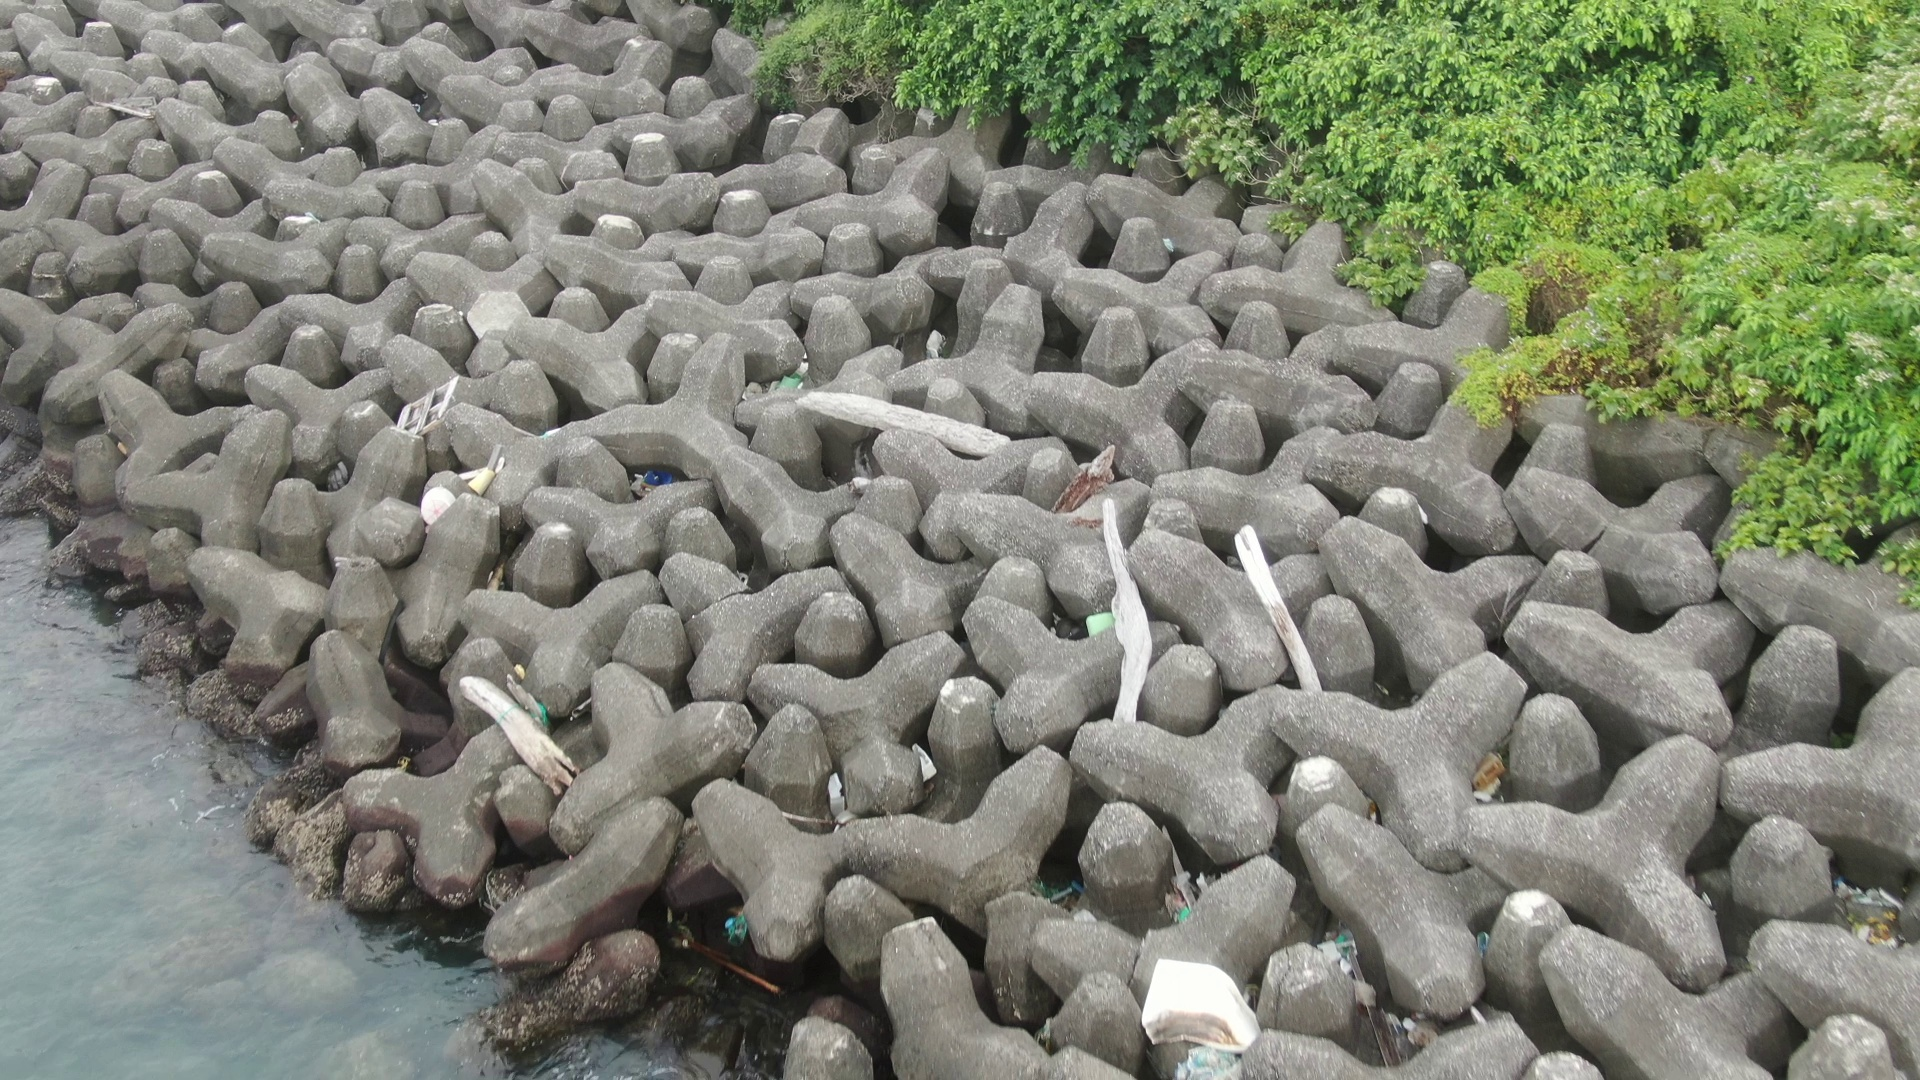garbage: (1316, 920, 1447, 1063), (1143, 947, 1273, 1080), (393, 442, 524, 529), (1820, 866, 1920, 961), (1150, 818, 1221, 924), (998, 870, 1112, 924), (742, 347, 836, 411), (382, 375, 462, 438), (1468, 736, 1520, 818), (716, 897, 771, 956), (616, 454, 680, 502), (1079, 599, 1135, 640)
